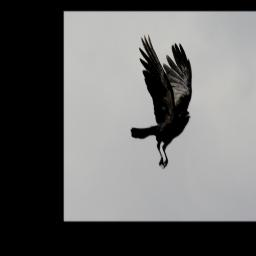Crow: (130, 34, 194, 172)
